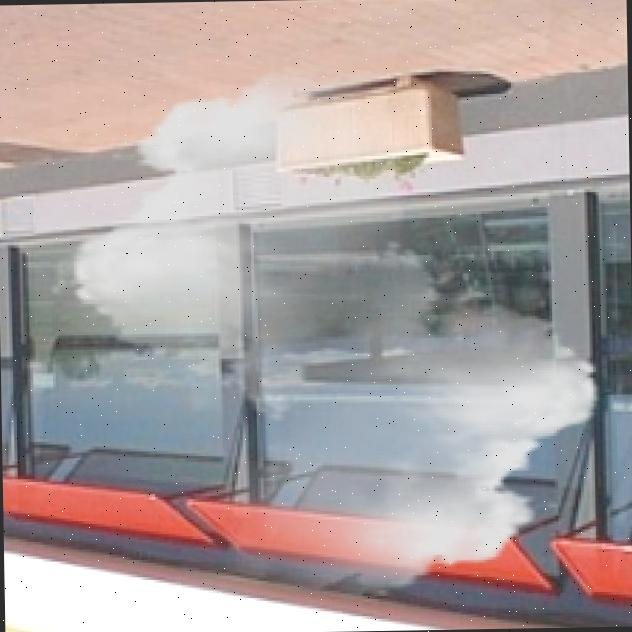smoke: (51, 61, 620, 602)
